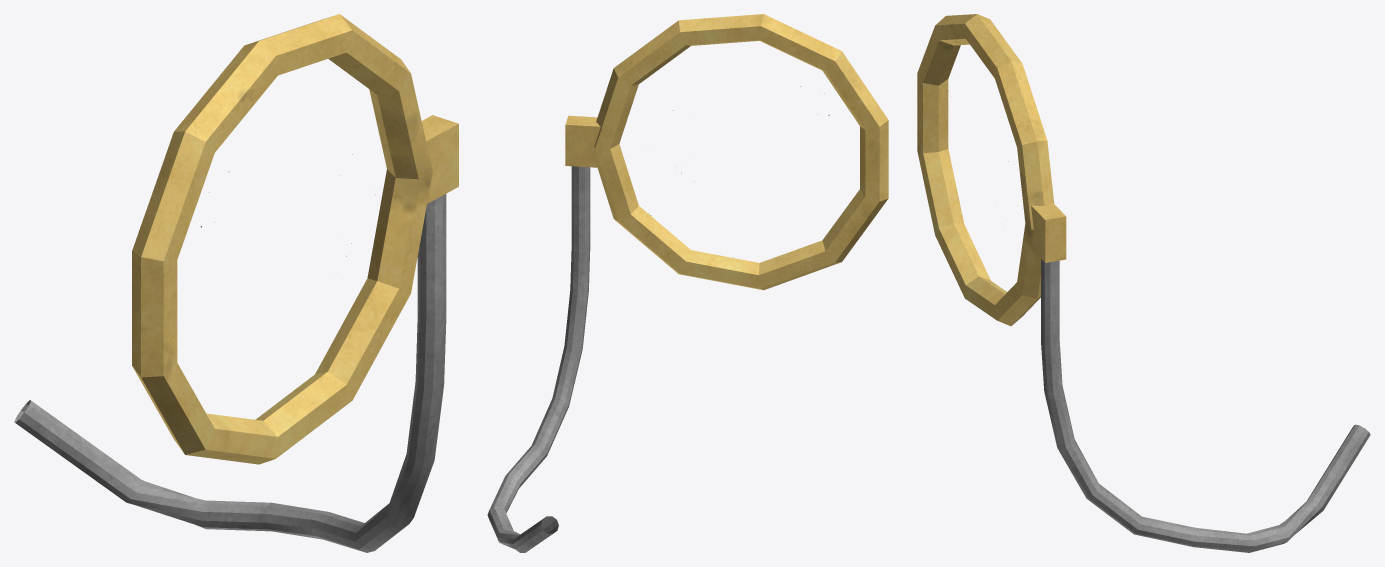
Rendered from Monocle.fbx.
The picture shows the model from 3 angles, left to right: view 1: azimuth 30°, elevation 25°; view 2: azimuth 150°, elevation 25°; view 3: azimuth 270°, elevation 25°; orthographic projection. The views are drawn at different scales.
Parts seen in each view (by area): view 1: Monocle; view 2: Monocle; view 3: Monocle.
Part boxes in pixels (x1=…): Monocle: x1=14, y1=14, x2=458, y2=552; Monocle: x1=487, y1=14, x2=888, y2=552; Monocle: x1=917, y1=14, x2=1370, y2=552.
Bounding box in the file's own units: 240 × 392 × 341.
1 material, 1 textured.
